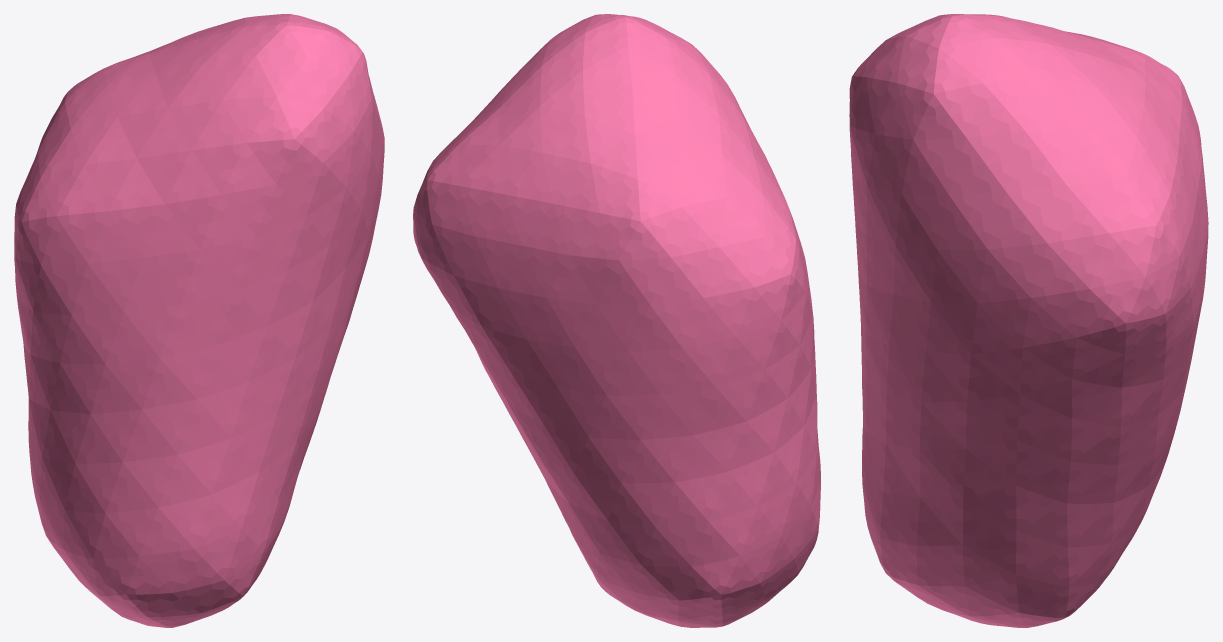
File: HIV1_capsid_3j3q_PackInner_0_1_0.dae
3 renders of one model, left to right at view 1: azimuth 30°, elevation 25°; view 2: azimuth 150°, elevation 25°; view 3: azimuth 270°, elevation 25°, orthographic. The views are drawn at different scales.
Visible parts, largest first — view 1: HIV1_capsid_3j3q_PackInner_0_1_0; view 2: HIV1_capsid_3j3q_PackInner_0_1_0; view 3: HIV1_capsid_3j3q_PackInner_0_1_0.
Boxes of the visible parts, box(x1,y1,x2,y2) form: HIV1_capsid_3j3q_PackInner_0_1_0: box(14, 14, 384, 627); HIV1_capsid_3j3q_PackInner_0_1_0: box(413, 14, 820, 627); HIV1_capsid_3j3q_PackInner_0_1_0: box(849, 14, 1208, 627).
Size of the model in its own units: 643 by 992 by 491.
